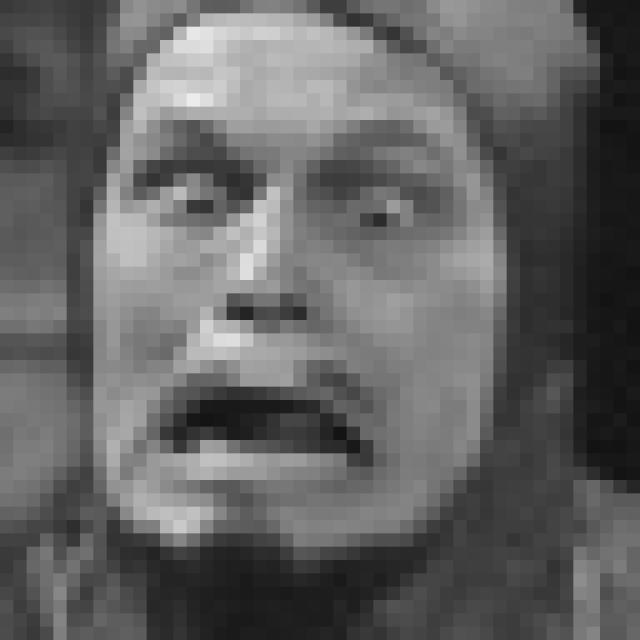fear: (105, 102, 482, 516)
